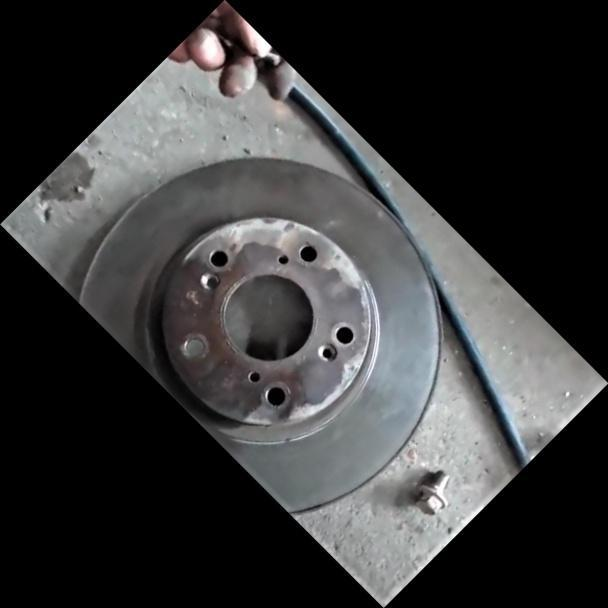hole: (261, 381, 290, 410), (180, 333, 209, 361), (204, 244, 232, 272), (196, 267, 224, 295), (314, 337, 341, 365), (331, 321, 358, 348), (294, 241, 320, 267), (274, 251, 291, 268), (246, 368, 263, 385)
